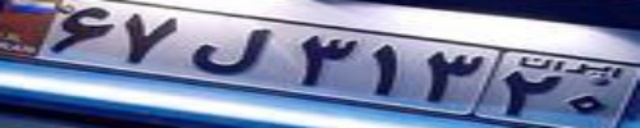0: (566, 92, 603, 116)
1: (370, 44, 396, 97)
2: (500, 70, 559, 119)
3: (419, 51, 483, 103), (299, 35, 356, 87)
6: (49, 6, 113, 57)
7: (123, 11, 177, 64)
lam: (189, 29, 272, 75)
